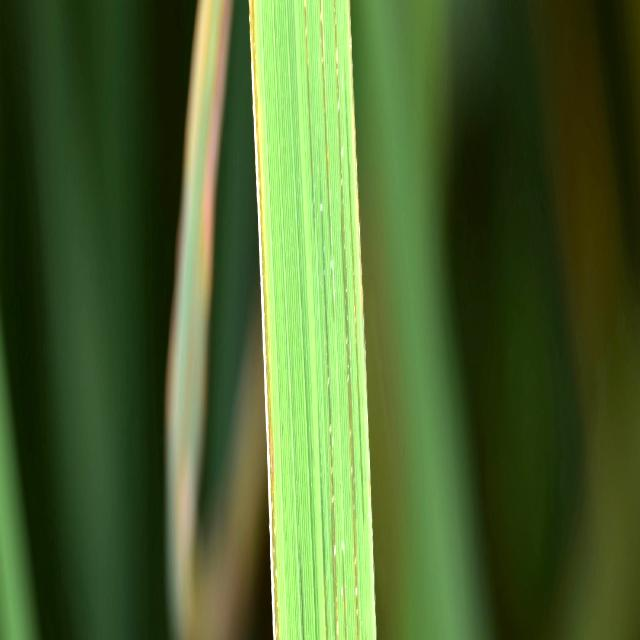BLS: (250, 1, 279, 640), (334, 1, 361, 640), (317, 148, 339, 640), (344, 73, 364, 531), (319, 4, 335, 327), (303, 3, 316, 232), (320, 461, 328, 640), (342, 546, 349, 640), (298, 551, 305, 640)
